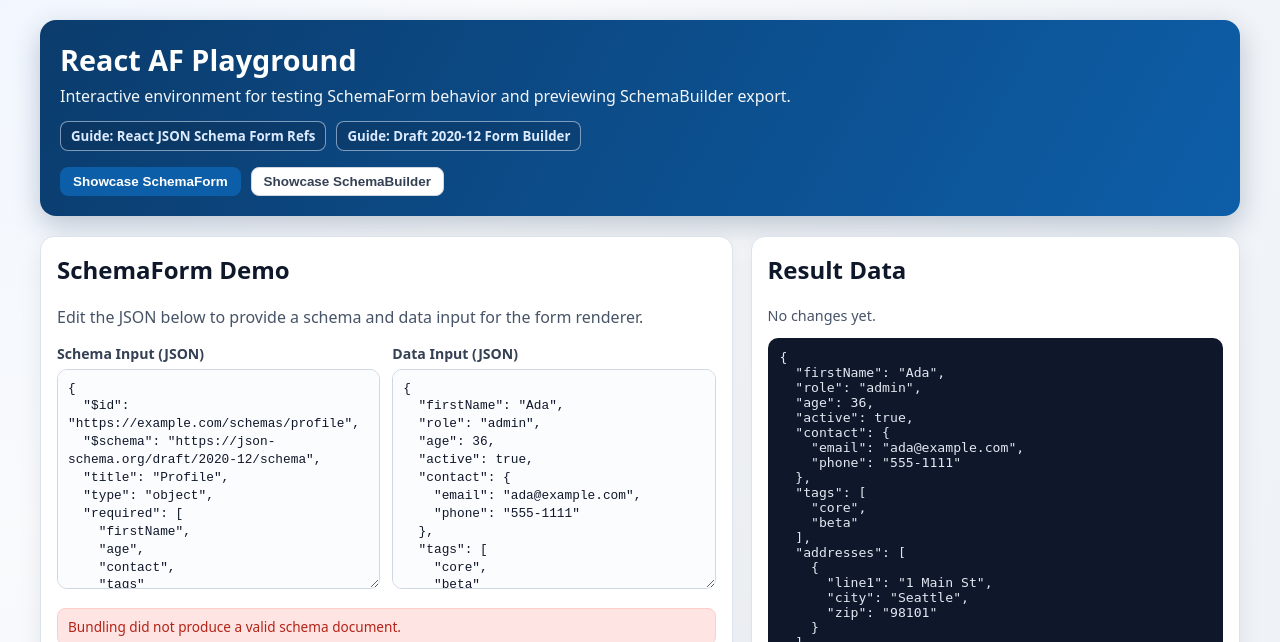
Test: Playground regression guards › auto-populates Keyword Assistant with condition and displays results
Click the button "Showcase SchemaBuilder" at (347, 181), box [251, 167, 444, 196]
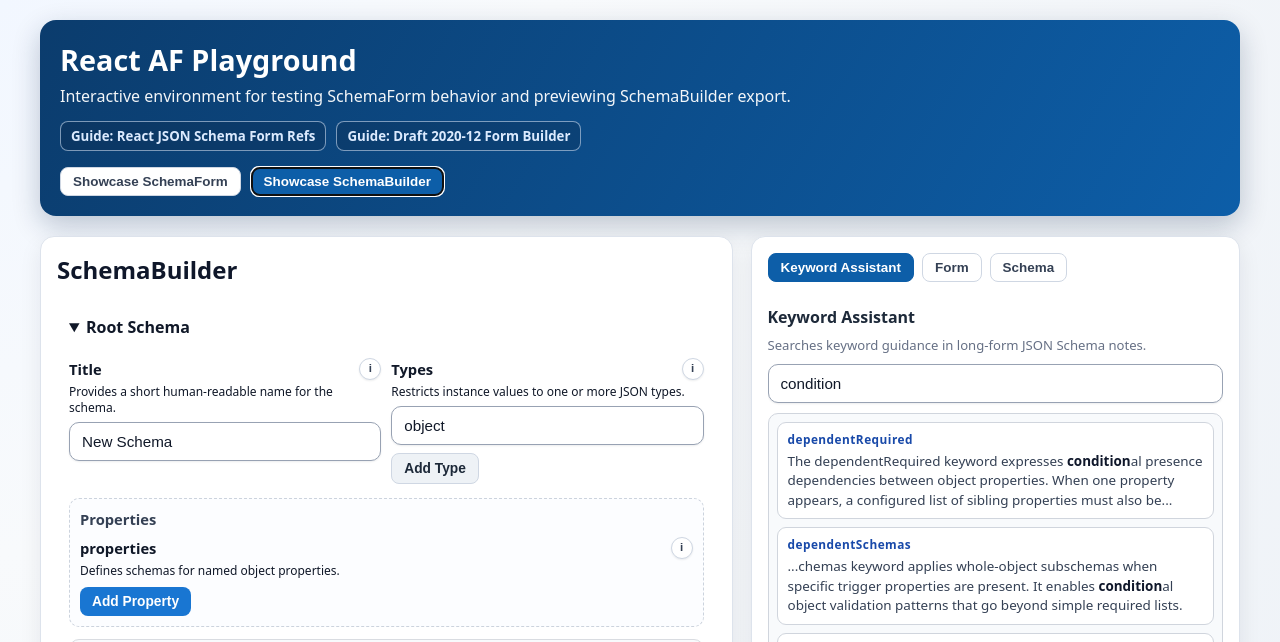
Check: the field named "Search SchemaBuilder keyword help" holds "condition", box [768, 364, 1223, 403]
Check: the element with class "raf-helper-snippet" that starts with "dependentRequired" is shown, box [776, 422, 1214, 519]
